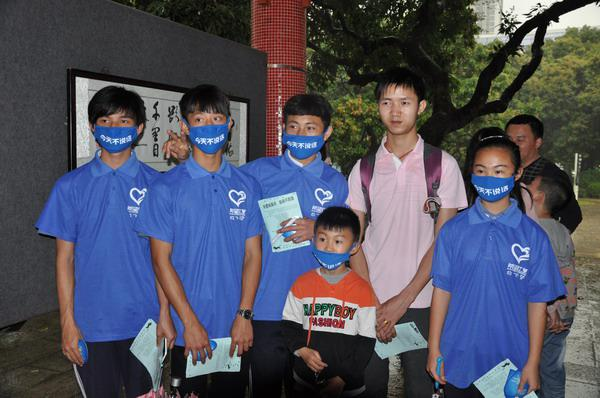NONE: (379, 89, 417, 135), (507, 127, 532, 160)
OK: (90, 107, 138, 155), (186, 109, 234, 157), (470, 159, 514, 203), (283, 117, 325, 159)
WRONG: (315, 227, 356, 268)
